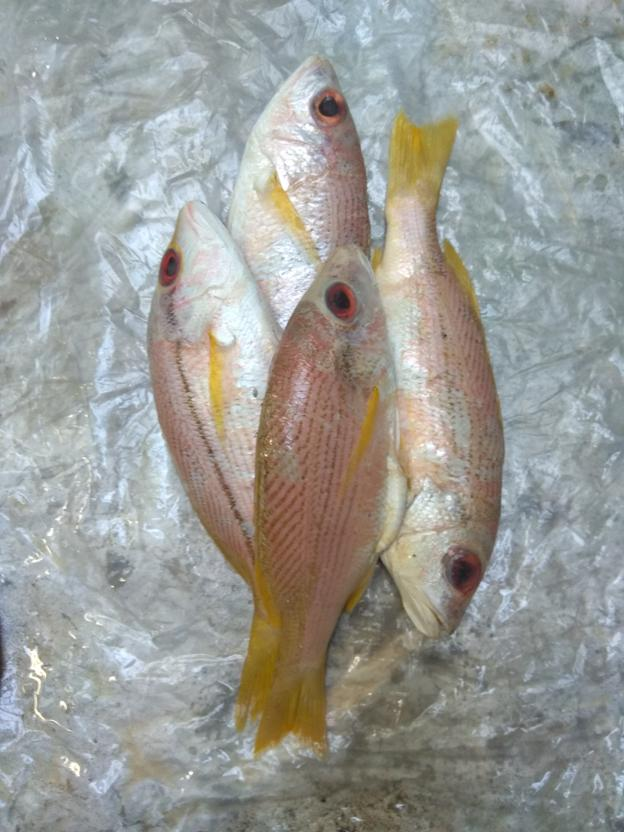Fish head: (269, 243, 394, 384), (384, 497, 503, 639), (244, 55, 367, 183), (144, 198, 255, 339)
Fish tail: (255, 655, 330, 763), (383, 107, 459, 210), (235, 597, 282, 735)
